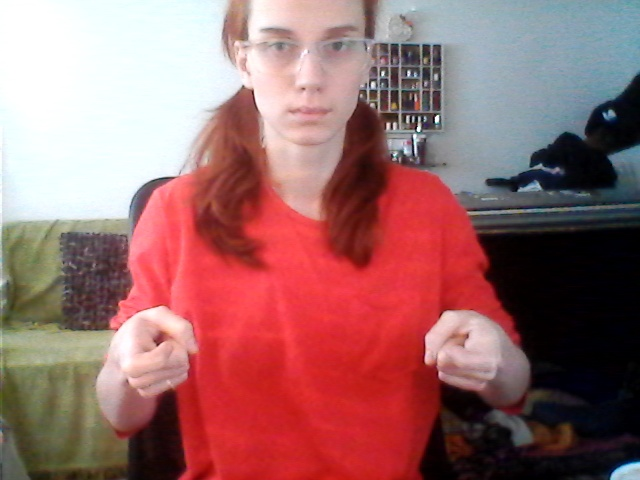davat: (108, 296, 507, 412)
